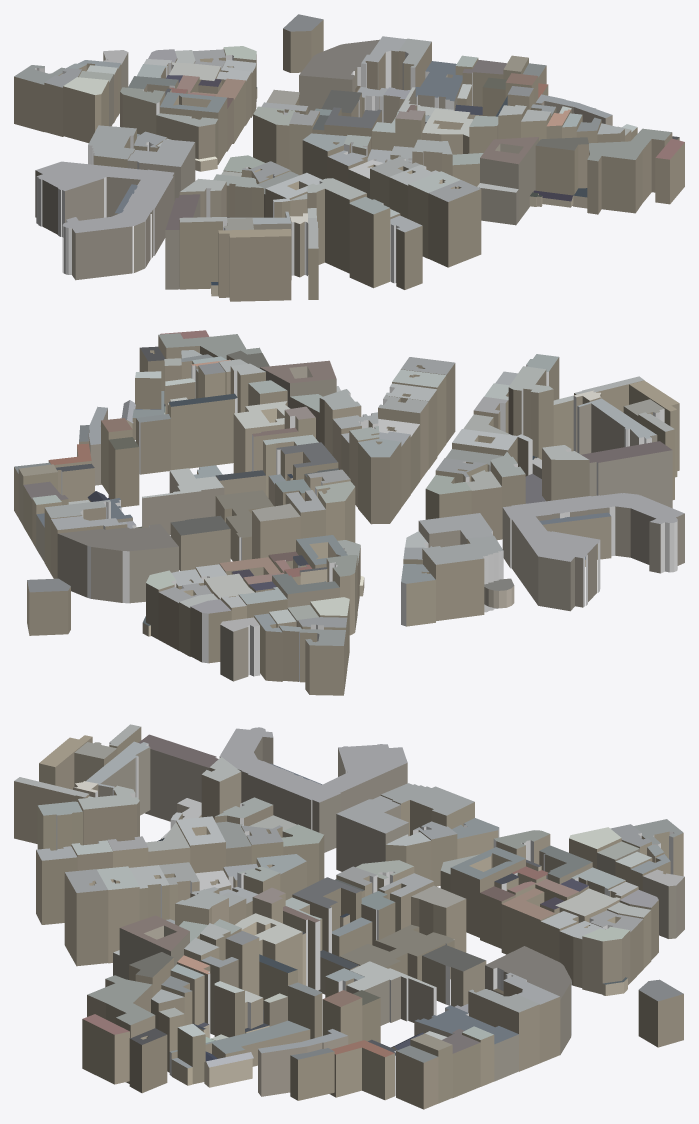
3 renders of one model, top to bottom at view 1: azimuth 30°, elevation 25°; view 2: azimuth 150°, elevation 25°; view 3: azimuth 270°, elevation 25°, orthographic. The views are drawn at different scales.
Parts seen in each view (by area): view 1: tuile; view 2: tuile; view 3: tuile.
Part boxes in pixels (<box>): tuile: <box>14,14,684,301</box>; tuile: <box>14,330,684,695</box>; tuile: <box>14,724,684,1109</box>.
Bounding box in the file's own units: 289 × 53.18 × 267.
